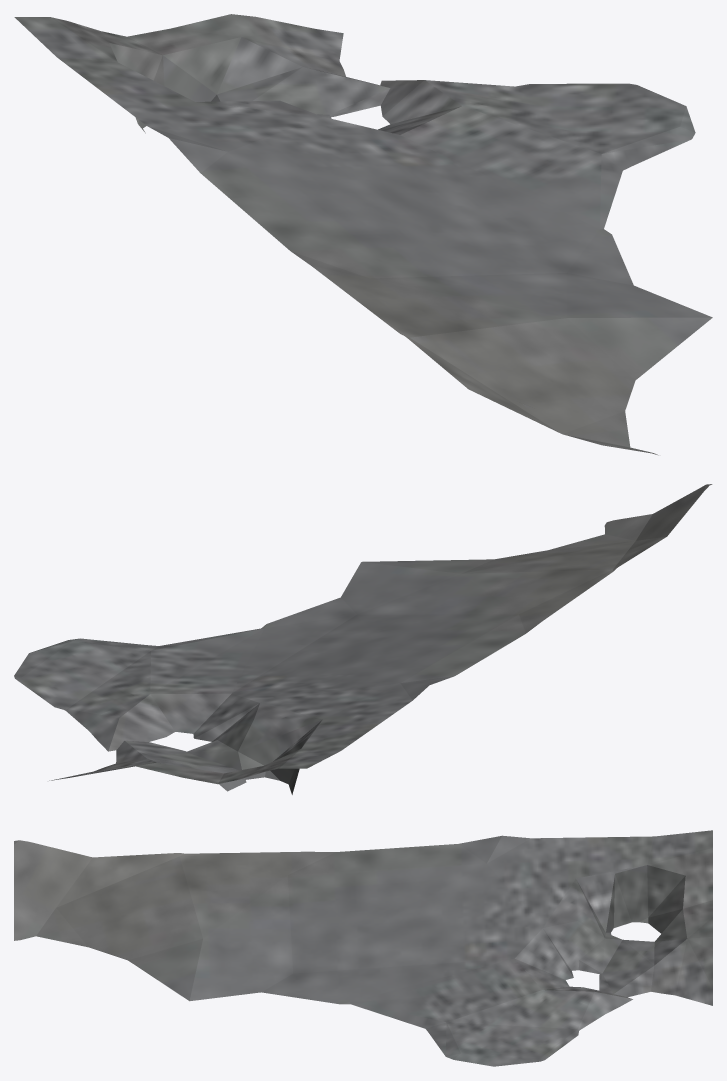
3 renders of one model, top to bottom at view 1: azimuth 30°, elevation 25°; view 2: azimuth 150°, elevation 25°; view 3: azimuth 270°, elevation 25°, orthographic. The views are drawn at different scales.
Bounding box in the file's own units: 0.4831 × 0.0873 × 0.8373.
Materials: 1 (1 with a texture image).
